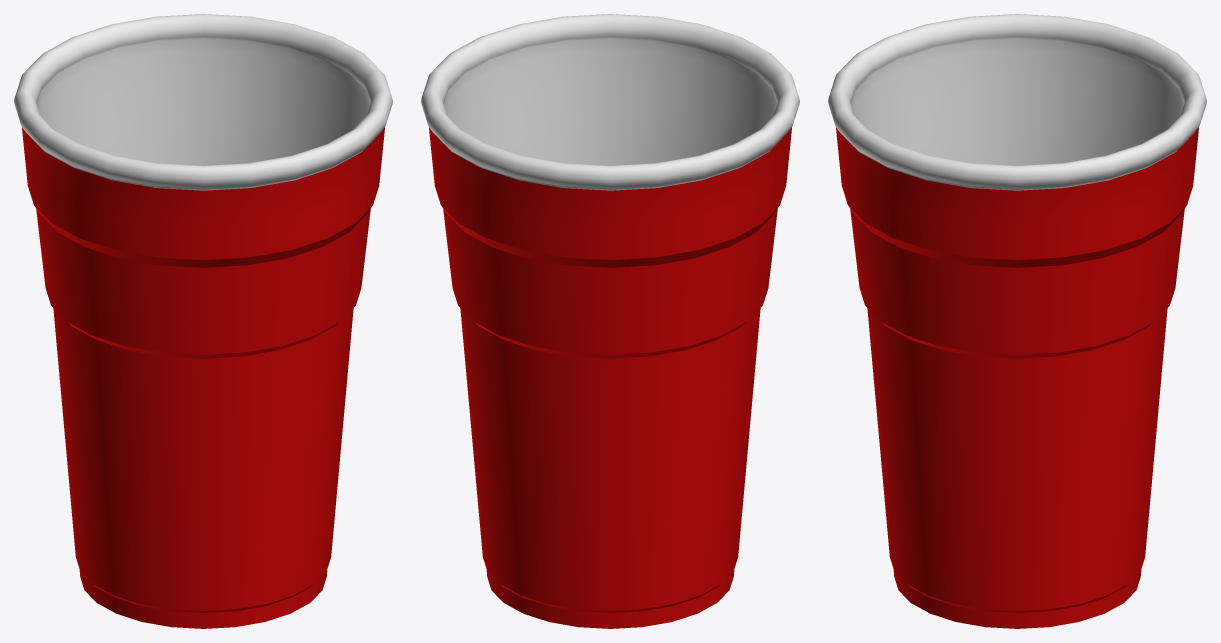
The model's file is solocup.fbx.
The picture shows the model from 3 angles, left to right: view 1: azimuth 30°, elevation 25°; view 2: azimuth 150°, elevation 25°; view 3: azimuth 270°, elevation 25°; orthographic projection.
Visible parts, largest first — view 1: pCylinder1; view 2: pCylinder1; view 3: pCylinder1.
Boxes of the visible parts, <box> form: pCylinder1: <box>14,14,392,628</box>; pCylinder1: <box>421,14,799,628</box>; pCylinder1: <box>828,14,1206,628</box>.
Size of the model in its own units: 4.22 by 5.98 by 4.22.
